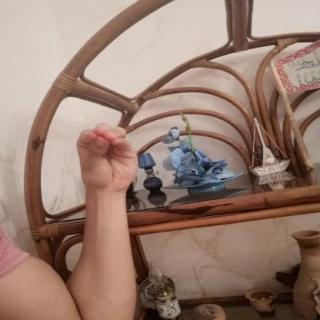HA: (60, 110, 154, 206)
